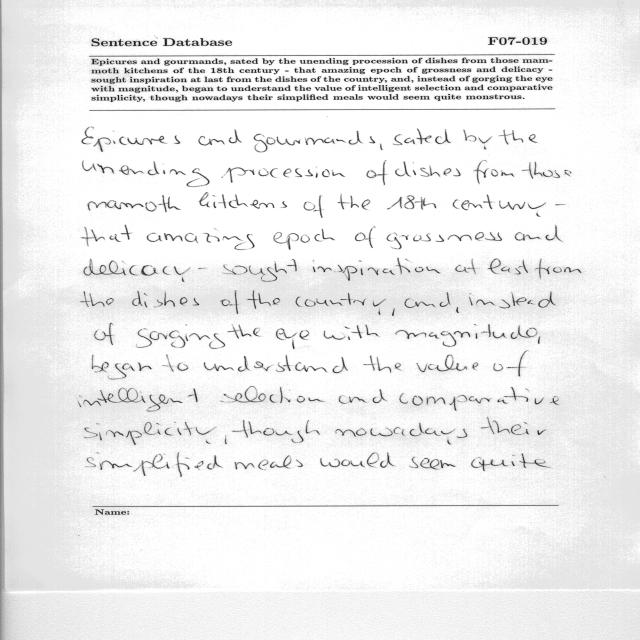word: (400, 387, 560, 411), (86, 452, 223, 477), (82, 161, 210, 187), (396, 324, 538, 347), (313, 258, 440, 281), (85, 422, 212, 445), (335, 423, 467, 445), (78, 388, 198, 411), (254, 131, 375, 152), (82, 127, 180, 152), (204, 356, 348, 373), (84, 259, 189, 282), (147, 229, 255, 250), (453, 194, 546, 217), (231, 420, 320, 443), (296, 293, 386, 315), (386, 232, 502, 249), (221, 168, 345, 183), (221, 386, 325, 403), (137, 329, 225, 349), (223, 259, 297, 282), (88, 195, 181, 212), (469, 292, 556, 309), (92, 355, 152, 379), (471, 453, 551, 471), (199, 193, 287, 209), (273, 229, 335, 250), (480, 417, 546, 435), (321, 452, 395, 468), (132, 291, 199, 307), (395, 161, 461, 177), (417, 355, 478, 372), (82, 225, 131, 246), (235, 455, 303, 470), (474, 160, 514, 184), (393, 129, 451, 145), (536, 259, 582, 279), (493, 351, 527, 376), (522, 162, 571, 179), (324, 325, 379, 340), (515, 225, 562, 242), (405, 292, 451, 308), (339, 389, 387, 404), (198, 130, 242, 146), (387, 196, 436, 210), (363, 355, 401, 373), (276, 329, 309, 349), (488, 259, 528, 275), (248, 291, 280, 309), (464, 130, 492, 150), (500, 130, 537, 145), (410, 457, 456, 469), (80, 291, 114, 307), (338, 194, 371, 210), (367, 160, 387, 185), (228, 325, 260, 339), (163, 355, 189, 372), (355, 226, 375, 248), (304, 195, 323, 218), (221, 290, 239, 314), (95, 323, 113, 345), (455, 259, 476, 274), (392, 309, 395, 316), (380, 144, 383, 150), (456, 307, 459, 313), (538, 336, 540, 344), (225, 438, 227, 444), (555, 204, 564, 205), (198, 268, 205, 269)
